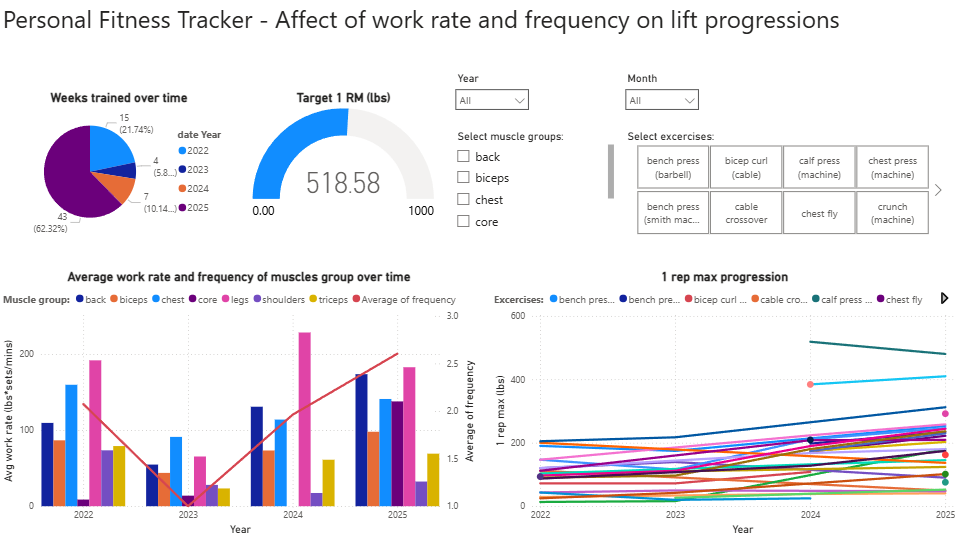

This screenshot's page, from the dashboard's own definition file:
{"tool":"powerbi","page":{"name":"Page 1","canvas":[1280,720],"ordinal":0},"visuals":[{"type":"shape","box":[0,0,280.6,719.4],"z":0},{"type":"lineChart","title":"Max 1 RM of Excercise","fields":{"Series":["clean1.exercise_name"],"Category":["clean1.date.Variation.Date Hierarchy.Year","clean1.date.Variation.Date Hierarchy.Month"],"Y":["Max(clean1.max_1RM)"]},"box":[295.5,359.7,956.7,338.8],"z":1000},{"type":"synopticPanelByOKVIZC365478550CD4DC0A2ED985DC3E23EED","title":"<- Front | Back ->","fields":{"category_role":["Human Anatomy (2).Muscle Name"],"legend_role":["clean1.muscle_group"]},"box":[0,291,280.6,428.4],"z":2000},{"type":"slicer","title":"Date","fields":{"Values":["clean1.date"]},"box":[13.4,17.9,228.4,111.9],"z":3000},{"type":"listSlicer","title":"Exercise Name","fields":{"Values":["clean1.exercise_name"]},"box":[13.4,146.3,229.9,123.9],"z":4000},{"type":"lineClusteredColumnComboChart","title":"Average Work Rate & Frequency Over Time of Muscle Group","fields":{"Y":["Avg(clean1.frequency)"],"Y2":["Avg(clean1.work_rate)"],"Series":["clean1.muscle_group"],"Category":["clean1.date.Variation.Date Hierarchy.Year"]},"box":[619.4,113.4,632.8,213.4],"z":5000},{"type":"card","title":"Estimated 1 RM (lbs)","fields":{"Values":["Max(clean1.max_1RM)"]},"box":[295.5,113.4,294,213.4],"z":6000},{"type":"textbox","box":[304.5,17.9,947.8,80.6],"z":6001}]}

Visuals, with their boxes in screenshot pixels (x1, y1, x2, y2), scaled from the page's 1280x720 canvas onto the 955x534 screenshot:
shape: bbox(0, 0, 209, 533)
"Max 1 RM of Excercise" lineChart: bbox(220, 267, 934, 518)
"<- Front | Back ->" synopticPanelByOKVIZC365478550CD4DC0A2ED985DC3E23EED: bbox(0, 216, 209, 533)
"Date" slicer: bbox(10, 13, 180, 96)
"Exercise Name" listSlicer: bbox(10, 109, 182, 200)
"Average Work Rate & Frequency Over Time of Muscle Group" lineClusteredColumnComboChart: bbox(462, 84, 934, 242)
"Estimated 1 RM (lbs)" card: bbox(220, 84, 440, 242)
textbox: bbox(227, 13, 934, 73)
